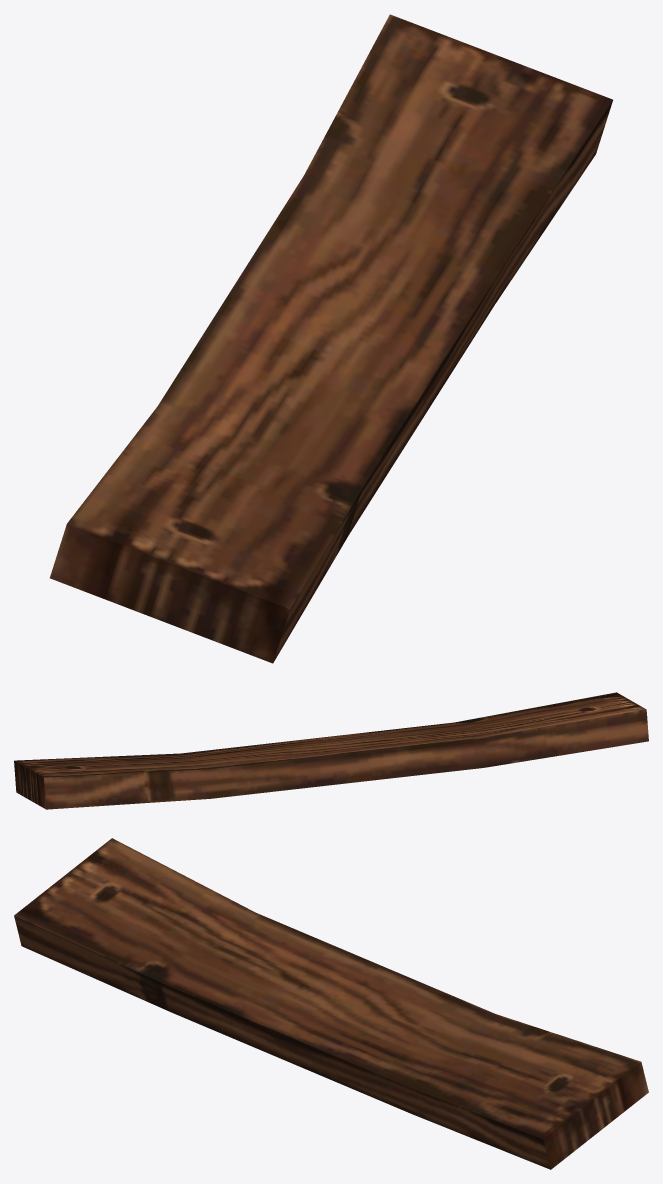
File: OVERHILL_A_01_WOOD_BOARD_30.fbx
3 views of the same model, one above another, from view 1: azimuth 30°, elevation 25°; view 2: azimuth 150°, elevation 25°; view 3: azimuth 270°, elevation 25° (orthographic). The views are drawn at different scales.
Visible parts, largest first — view 1: OVERHILL_A_01_WOOD_BOARD_30; view 2: OVERHILL_A_01_WOOD_BOARD_30; view 3: OVERHILL_A_01_WOOD_BOARD_30.
Boxes of the visible parts, x1=… form: OVERHILL_A_01_WOOD_BOARD_30: x1=50, y1=14, x2=612, y2=663; OVERHILL_A_01_WOOD_BOARD_30: x1=14, y1=692, x2=648, y2=809; OVERHILL_A_01_WOOD_BOARD_30: x1=14, y1=838, x2=648, y2=1169.
Bounding box in the file's own units: 15489 × 2089 × 15489.
Materials: 1 (1 with a texture image).
